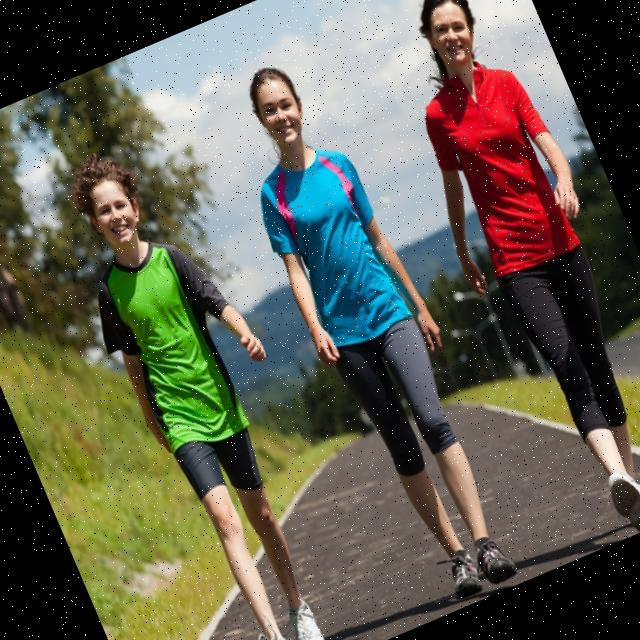Person: (205, 42, 540, 614), (34, 123, 386, 640), (358, 0, 640, 555)
